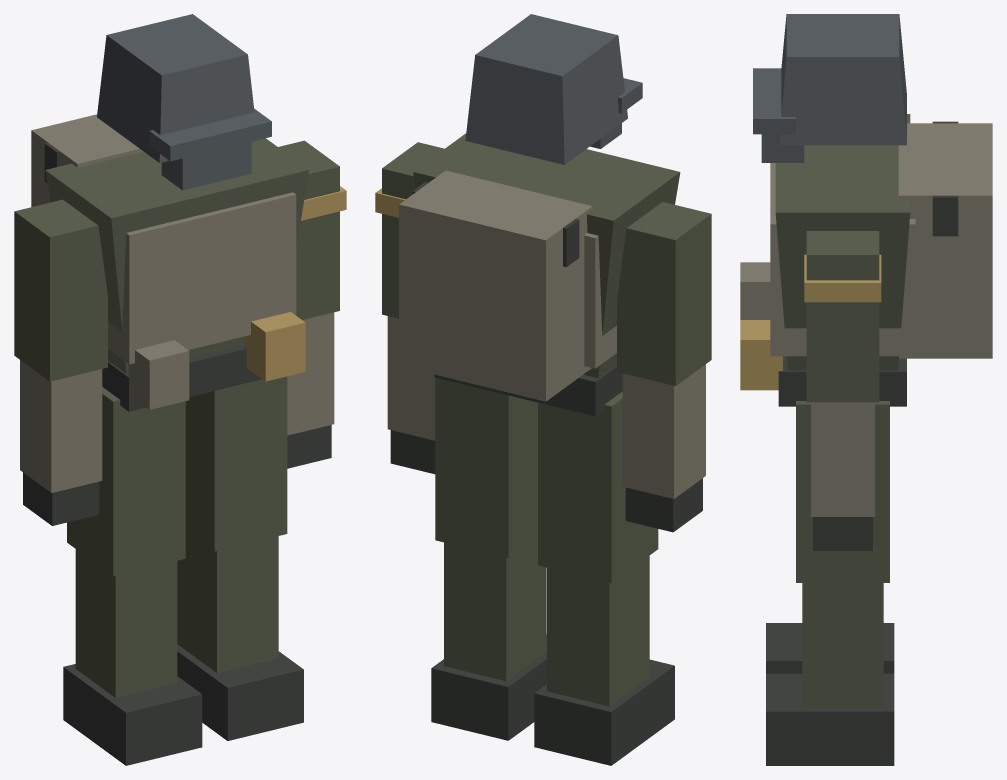
Rendered from soldier_bracket.glb.
3 views of the same model, side by side, from view 1: azimuth 30°, elevation 25°; view 2: azimuth 150°, elevation 25°; view 3: azimuth 270°, elevation 25° (orthographic). The views are drawn at different scales.
Parts seen in each view (by area): view 1: carrier, thighL, chest, helmet, thighR, upperarmR, shinR, shinL, forearmR, bootR, bootL, upperarmL (+10 smaller); view 2: pack, helmet, thighL, thighR, upperarmR, chest, shinR, shinL, forearmR, bootR, bootL, forearmL (+7 smaller); view 3: pack, chest, helmet, upperarmL, shinL, bootL, thighL, forearmL, carrier, pouch_l, bootR, brim (+6 smaller).
Boxes of the visible parts, left/top/right/bottom form: carrier: left=108, top=192, right=296, bottom=364; thighL: left=185, top=376, right=287, bottom=551; chest: left=45, top=138, right=309, bottom=373; helmet: left=97, top=14, right=254, bottom=162; thighR: left=67, top=387, right=185, bottom=576; upperarmR: left=14, top=199, right=107, bottom=381; shinR: left=75, top=549, right=177, bottom=697; shinL: left=177, top=530, right=278, bottom=673; forearmR: left=20, top=360, right=102, bottom=492; bootR: left=63, top=664, right=202, bottom=765; bootL: left=177, top=644, right=303, bottom=740; upperarmL: left=278, top=140, right=339, bottom=319; pack: left=399, top=170, right=592, bottom=401; helmet: left=465, top=14, right=627, bottom=164; thighL: left=435, top=377, right=537, bottom=558; thighR: left=538, top=391, right=658, bottom=583; upperarmR: left=617, top=202, right=711, bottom=385; chest: left=413, top=133, right=680, bottom=377; shinR: left=547, top=556, right=649, bottom=706; shinL: left=444, top=537, right=546, bottom=681; forearmR: left=622, top=364, right=705, bottom=498; bootR: left=534, top=659, right=674, bottom=765; bootL: left=431, top=634, right=546, bottom=740; forearmL: left=387, top=316, right=435, bottom=440; pack: left=898, top=123, right=992, bottom=358; chest: left=775, top=114, right=910, bottom=370; helmet: left=778, top=14, right=906, bottom=145; upperarmL: left=806, top=231, right=879, bottom=402; shinL: left=802, top=583, right=883, bottom=707; bootL: left=766, top=673, right=894, bottom=765; thighL: left=796, top=401, right=889, bottom=582; forearmL: left=811, top=402, right=874, bottom=516; carrier: left=770, top=163, right=915, bottom=356; pouch_l: left=740, top=320, right=782, bottom=390; bootR: left=766, top=623, right=894, bottom=673; brim: left=753, top=68, right=795, bottom=134.
Size of the model in its own units: 0.815 by 1.77 by 0.59.
